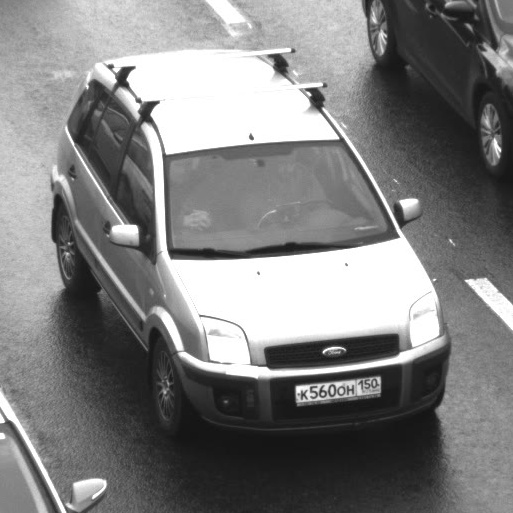plate: (284, 366, 389, 412)
